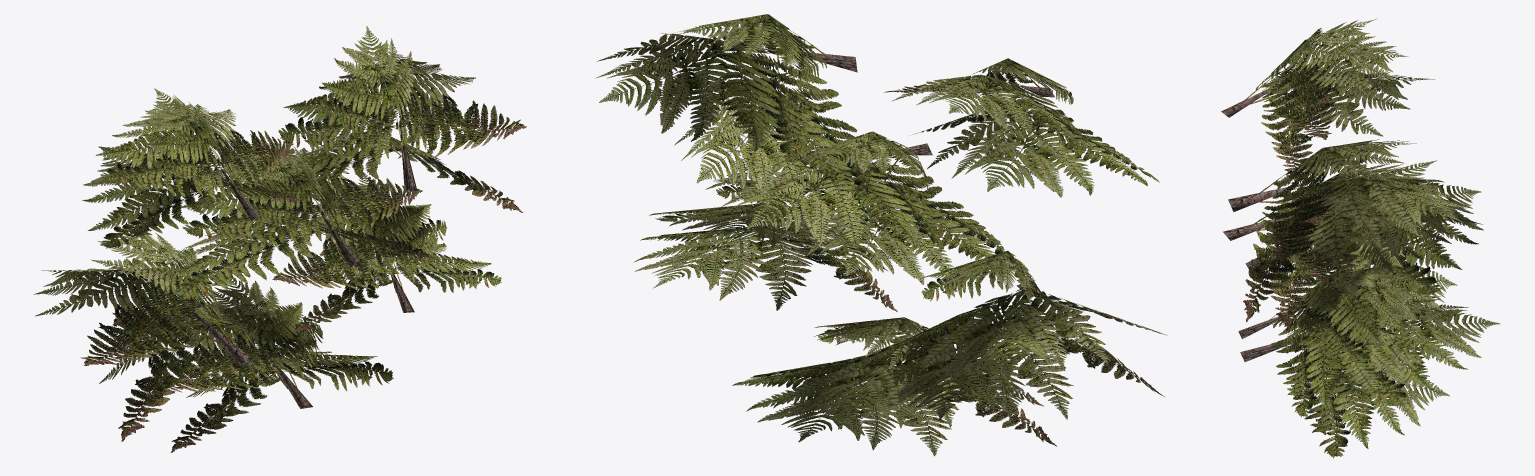
File: ADDON_PLANTS_WALLFERN_02_234PP.glb
3 renders of one model, left to right at view 1: azimuth 30°, elevation 25°; view 2: azimuth 150°, elevation 25°; view 3: azimuth 270°, elevation 25°, orthographic. The views are drawn at different scales.
Visible parts, largest first — view 1: Mesh; view 2: Mesh; view 3: Mesh.
Boxes of the visible parts, bbox=[...] form: Mesh: bbox=[33, 26, 526, 452]; Mesh: bbox=[595, 14, 1167, 456]; Mesh: bbox=[1221, 18, 1499, 458].
Bounding box in the file's own units: 9.4 × 6.3 × 4.96.
2 materials, 2 textured.
